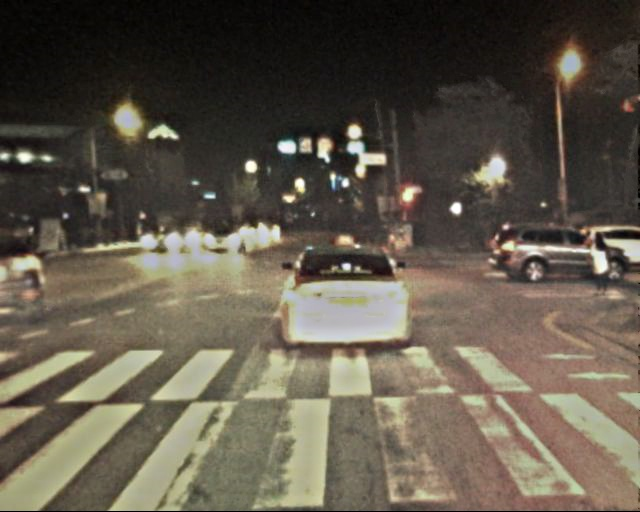person: (583, 230, 613, 303)
